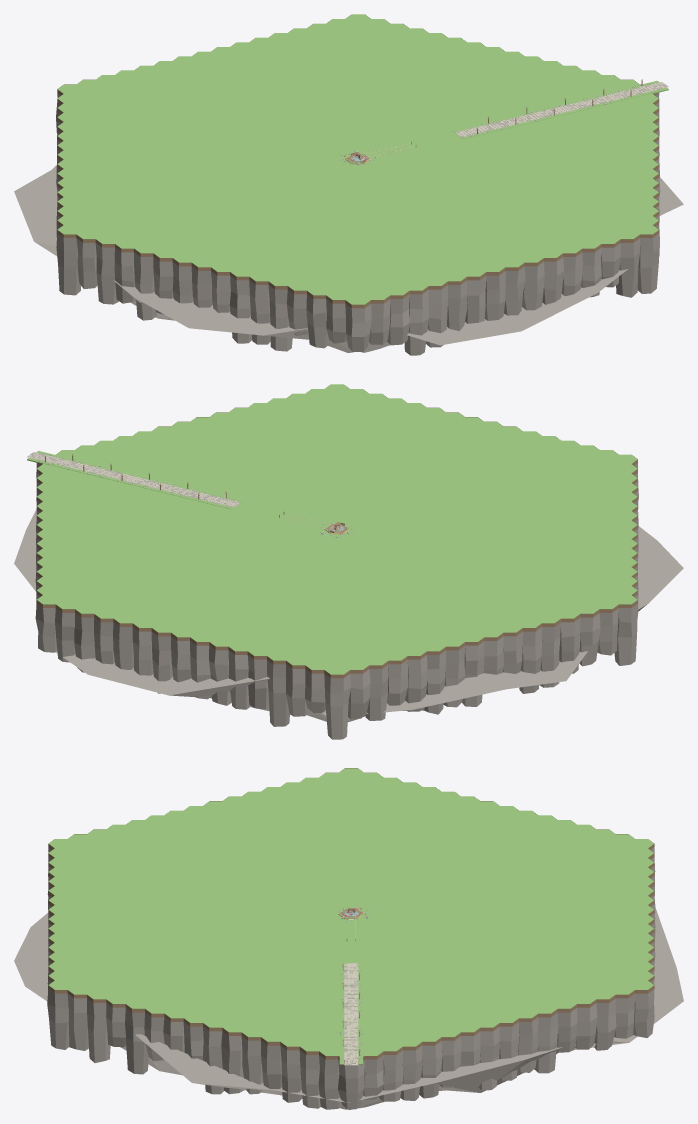
File: art_pass.fbx
The picture shows the model from 3 angles, top to bottom: view 1: azimuth 30°, elevation 25°; view 2: azimuth 150°, elevation 25°; view 3: azimuth 270°, elevation 25°; orthographic projection.
Visible parts, largest first — view 1: Island_Top, Island_Rock, Island_Dirt, LobbyPath_Stone, LobbyPath_Grass, LobbyPath_StoneDark; view 2: Island_Top, Island_Rock, Island_Dirt, LobbyPath_Stone, LobbyPath_Grass, LobbyPath_StoneDark; view 3: Island_Top, Island_Rock, Island_Dirt, LobbyPath_Stone, LobbyPath_Grass, LobbyPath_StoneDark.
Part boxes in pixels (bbox=[...]): Island_Top: bbox=[57, 14, 658, 304]; Island_Rock: bbox=[14, 93, 683, 355]; Island_Dirt: bbox=[57, 14, 659, 308]; LobbyPath_Stone: bbox=[455, 82, 668, 136]; LobbyPath_Grass: bbox=[452, 80, 668, 139]; LobbyPath_StoneDark: bbox=[455, 83, 667, 137]; Island_Top: bbox=[37, 384, 637, 674]; Island_Rock: bbox=[14, 463, 683, 739]; Island_Dirt: bbox=[36, 389, 637, 678]; LobbyPath_Stone: bbox=[27, 452, 239, 506]; LobbyPath_Grass: bbox=[27, 451, 242, 509]; LobbyPath_StoneDark: bbox=[30, 452, 240, 507]; Island_Top: bbox=[48, 768, 653, 1060]; Island_Rock: bbox=[14, 847, 683, 1109]; Island_Dirt: bbox=[48, 768, 654, 1063]; LobbyPath_Stone: bbox=[344, 963, 358, 1065]; LobbyPath_Grass: bbox=[339, 963, 362, 1064]; LobbyPath_StoneDark: bbox=[344, 963, 358, 1065].
Size of the model in its own units: 874 by 266 by 832.
